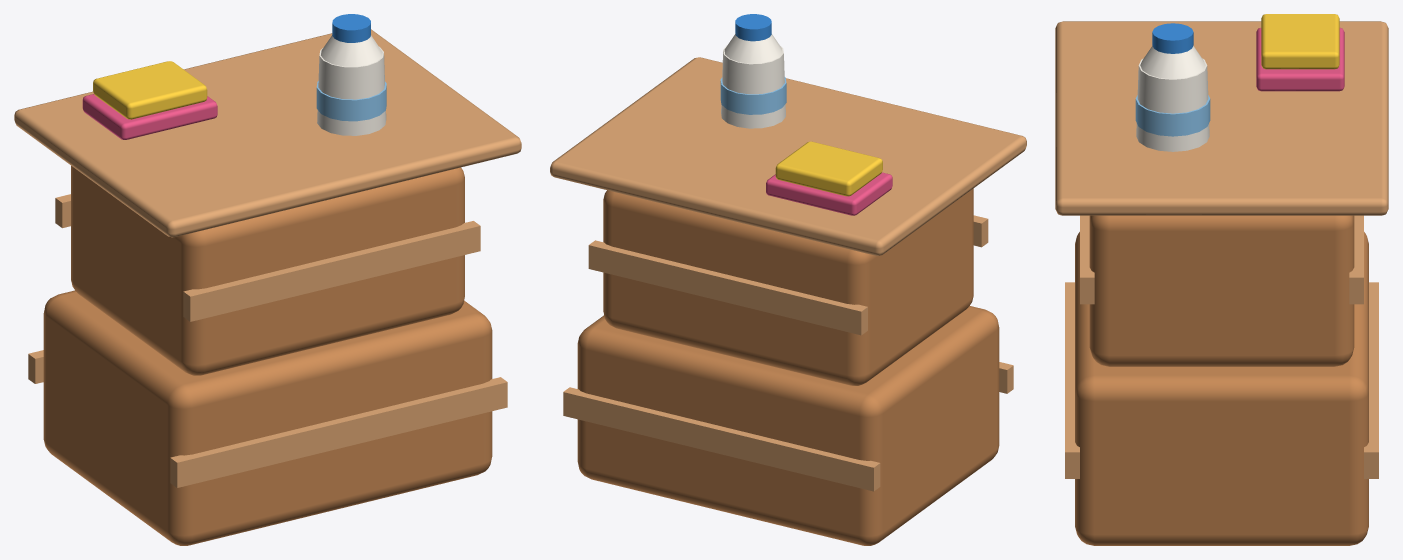
Rendered from table-crate.glb.
3 views of the same model, side by side, from view 1: azimuth 30°, elevation 25°; view 2: azimuth 150°, elevation 25°; view 3: azimuth 270°, elevation 25° (orthographic). The views are drawn at different scales.
Size of the model in its own units: 0.88 by 1.05 by 0.68.
